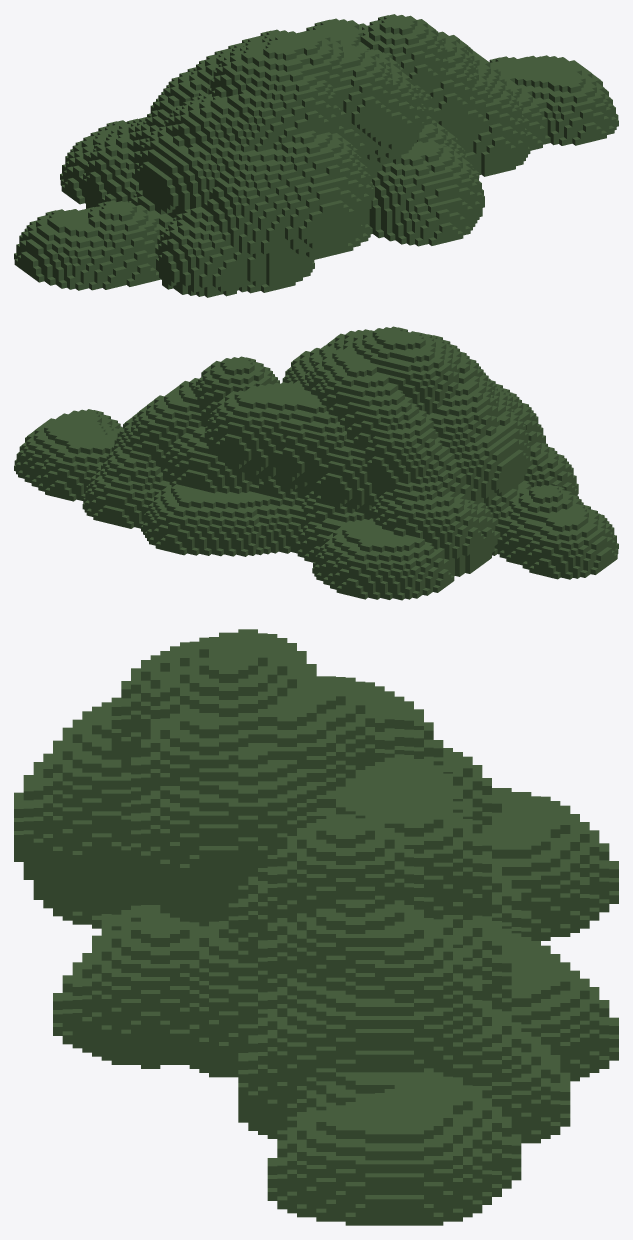
File: forest1.1-61.obj
3 renders of one model, top to bottom at view 1: azimuth 30°, elevation 25°; view 2: azimuth 150°, elevation 25°; view 3: azimuth 270°, elevation 25°, orthographic. The views are drawn at different scales.
Size of the model in its own units: 11.5 by 3.3 by 6.2.
1 material, 1 textured.
